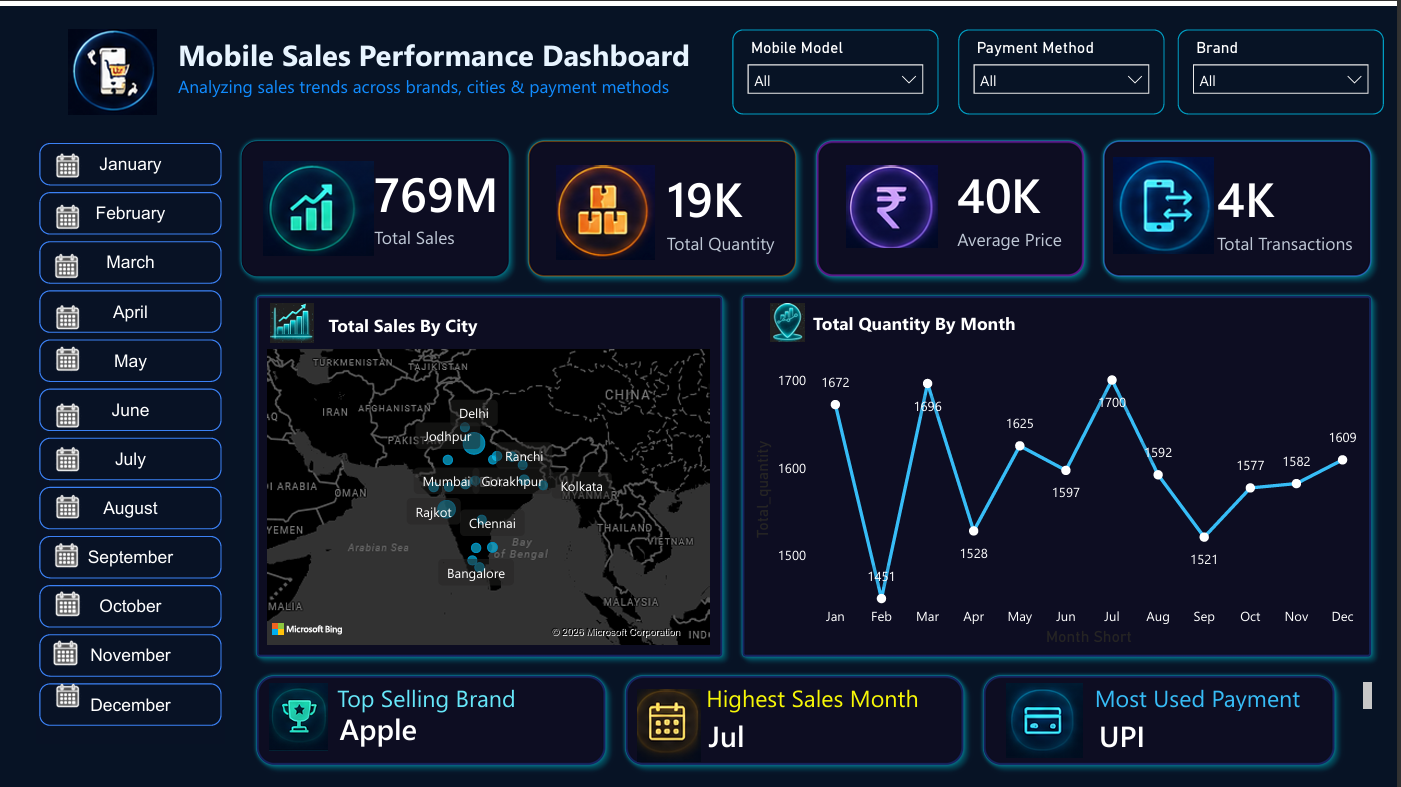

This screenshot's page, from the dashboard's own definition file:
{"tool":"powerbi","page":{"name":"DASHBOARD","canvas":[1280,720],"ordinal":0},"visuals":[{"type":"shape","box":[564,604,328,100],"z":0},{"type":"image","box":[745.8,147.7,131.7,87.2],"z":1000},{"type":"slicer","fields":{"Values":["Mobile_sales.Mobile Model"]},"box":[671.1,21.4,188.7,78.3],"z":2000},{"type":"slicer","fields":{"Values":["Mobile_sales.Payment Method"]},"box":[877.6,21.4,188.7,78.3],"z":3000},{"type":"slicer","fields":{"Values":["Mobile_sales.Brand"]},"box":[1078.7,21.4,188.7,78.3],"z":4000},{"type":"shape","box":[211.8,113.9,263.4,142.4],"z":5000},{"type":"image","box":[226.1,142.4,131.7,87.2],"z":6000},{"type":"cardVisual","fields":{"Data":["Mobile_sales.Total_sales"]},"box":[307.9,117.5,195.8,128.2],"z":7000},{"type":"shape","box":[475.3,113.9,263.4,142.4],"z":8000},{"type":"shape","box":[738.7,113.9,263.4,142.4],"z":9000},{"type":"shape","box":[1002.2,113.9,263.4,142.4],"z":10000},{"type":"cardVisual","fields":{"Data":["Mobile_sales.Total_quantity"]},"box":[576,122,196,128],"z":11000},{"type":"cardVisual","fields":{"Data":["Mobile_sales.Average_price"]},"box":[842,118,194,128],"z":12000},{"type":"image","box":[468.2,146,174.4,87.2],"z":13000},{"type":"image","box":[1002,138,128,88],"z":14000},{"type":"cardVisual","fields":{"Data":["Mobile_sales.Total_transactions"]},"box":[1080,122,200,128],"z":15000},{"type":"image","box":[766,146,104,76],"z":16000},{"type":"shape","box":[226.1,256.3,445,348.9],"z":17000},{"type":"shape","box":[671.1,256.3,594.5,348.9],"z":18000},{"type":"lineChart","fields":{"Y":["Mobile_sales.Total_quantity"],"Category":["Custom_calender.Month Short"]},"box":[686,324,566,266],"z":19000},{"type":"image","box":[40,131.2,61.2,30],"z":20000},{"type":"image","box":[41.2,175,61.2,30],"z":21000},{"type":"image","box":[42.5,218.8,61.2,30],"z":22000},{"type":"image","box":[42.5,261.2,61.2,30],"z":23000},{"type":"image","box":[43.8,308.8,61.2,30],"z":24000},{"type":"image","box":[43.8,360,61.2,30],"z":25000},{"type":"image","box":[45,400,61.2,30],"z":26000},{"type":"image","box":[42.5,447.5,61.2,30],"z":27000},{"type":"image","box":[40,492.5,61.2,30],"z":28000},{"type":"image","box":[40,532.5,61.2,30],"z":29000},{"type":"image","box":[40,620,61.2,30],"z":30000},{"type":"ChicletSlicer1448559807354","fields":{"Category":["Custom_calender.Date.Variation.Date Hierarchy.Month"]},"box":[28.5,117.5,183.3,566.1],"z":31000},{"type":"shape","box":[226,604,338,100],"z":32000},{"type":"cardVisual","fields":{"Data":["Mobile_sales.Top Selling Brand"]},"box":[276,618,164,84],"z":33000},{"type":"cardVisual","fields":{"Data":["Mobile_sales.Highest Sales Month"]},"box":[614,624,158,84],"z":34000},{"type":"textbox","box":[642,614,228,42],"z":35000},{"type":"textbox","box":[304,614,204,46],"z":36000},{"type":"shape","box":[892,604,340,100],"z":37000},{"type":"cardVisual","fields":{"Data":["Mobile_sales.Most Used Payment"]},"box":[972,628,128,76],"z":38000},{"type":"textbox","box":[998,614,264,36],"z":39000},{"type":"image","box":[916,620,82,68],"z":40000},{"type":"image","box":[572,626,82,66],"z":41000},{"type":"image","box":[240,620,68,62],"z":42000},{"type":"image","box":[17.1,127.1,90,38.6],"z":43000},{"type":"image","box":[17.1,174.3,90,38.6],"z":44000},{"type":"image","box":[15.7,218.6,90,38.6],"z":45000},{"type":"image","box":[17.1,265.7,90,38.6],"z":46000},{"type":"image","box":[17.1,304.3,90,38.6],"z":47000},{"type":"image","box":[17.1,355.7,90,38.6],"z":48000},{"type":"image","box":[17.1,395.7,90,38.6],"z":49000},{"type":"image","box":[16.7,440,90,38.3],"z":50000},{"type":"image","box":[15.7,484.3,90,38.6],"z":51000},{"type":"image","box":[16.7,528.3,90,40],"z":52000},{"type":"image","box":[15,573.3,90,40],"z":53000},{"type":"image","box":[16.7,613.3,90,38.3],"z":54000},{"type":"textbox","box":[740,274,300,34],"z":55000},{"type":"textbox","box":[296,276,300,32],"z":56000},{"type":"image","box":[686.7,271.7,70,35],"z":57000},{"type":"image","box":[240.3,272.3,55.2,35.6],"z":58000},{"type":"textbox","box":[158.4,21.4,555.4,81.9],"z":59000},{"type":"image","box":[58.7,21.4,89,78.3],"z":60000},{"type":"map","fields":{"Category":["Mobile_sales.City"],"Size":["Mobile_sales.Total_sales"]},"box":[240,308.8,415,281.2],"z":61000}]}

Visuals, with their boxes in screenshot pixels (x1, y1, x2, y2), scaled from the page's 1280x720 canvas onto the 1401x787 screenshot:
shape: {"left": 617, "top": 660, "right": 976, "bottom": 770}
image: {"left": 816, "top": 161, "right": 960, "bottom": 257}
slicer - Mobile_sales.Mobile Model: {"left": 735, "top": 23, "right": 941, "bottom": 109}
slicer - Mobile_sales.Payment Method: {"left": 961, "top": 23, "right": 1167, "bottom": 109}
slicer - Mobile_sales.Brand: {"left": 1181, "top": 23, "right": 1387, "bottom": 109}
shape: {"left": 232, "top": 124, "right": 520, "bottom": 280}
image: {"left": 247, "top": 156, "right": 392, "bottom": 251}
cardVisual - Mobile_sales.Total_sales: {"left": 337, "top": 128, "right": 551, "bottom": 269}
shape: {"left": 520, "top": 124, "right": 809, "bottom": 280}
shape: {"left": 809, "top": 124, "right": 1097, "bottom": 280}
shape: {"left": 1097, "top": 124, "right": 1385, "bottom": 280}
cardVisual - Mobile_sales.Total_quantity: {"left": 630, "top": 133, "right": 845, "bottom": 273}
cardVisual - Mobile_sales.Average_price: {"left": 922, "top": 129, "right": 1134, "bottom": 269}
image: {"left": 512, "top": 160, "right": 703, "bottom": 255}
image: {"left": 1097, "top": 151, "right": 1237, "bottom": 247}
cardVisual - Mobile_sales.Total_transactions: {"left": 1182, "top": 133, "right": 1400, "bottom": 273}
image: {"left": 838, "top": 160, "right": 952, "bottom": 243}
shape: {"left": 247, "top": 280, "right": 735, "bottom": 662}
shape: {"left": 735, "top": 280, "right": 1385, "bottom": 662}
lineChart - Mobile_sales.Total_quantity x Custom_calender.Month Short: {"left": 751, "top": 354, "right": 1370, "bottom": 645}
image: {"left": 44, "top": 143, "right": 111, "bottom": 176}
image: {"left": 45, "top": 191, "right": 112, "bottom": 224}
image: {"left": 47, "top": 239, "right": 114, "bottom": 272}
image: {"left": 47, "top": 286, "right": 114, "bottom": 318}
image: {"left": 48, "top": 338, "right": 115, "bottom": 370}
image: {"left": 48, "top": 393, "right": 115, "bottom": 426}
image: {"left": 49, "top": 437, "right": 116, "bottom": 470}
image: {"left": 47, "top": 489, "right": 114, "bottom": 522}
image: {"left": 44, "top": 538, "right": 111, "bottom": 571}
image: {"left": 44, "top": 582, "right": 111, "bottom": 615}
image: {"left": 44, "top": 678, "right": 111, "bottom": 710}
ChicletSlicer1448559807354 - Custom_calender.Date.Variation.Date Hierarchy.Month: {"left": 31, "top": 128, "right": 232, "bottom": 747}
shape: {"left": 247, "top": 660, "right": 617, "bottom": 770}
cardVisual - Mobile_sales.Top Selling Brand: {"left": 302, "top": 676, "right": 482, "bottom": 767}
cardVisual - Mobile_sales.Highest Sales Month: {"left": 672, "top": 682, "right": 845, "bottom": 774}
textbox: {"left": 703, "top": 671, "right": 952, "bottom": 717}
textbox: {"left": 333, "top": 671, "right": 556, "bottom": 721}
shape: {"left": 976, "top": 660, "right": 1348, "bottom": 770}
cardVisual - Mobile_sales.Most Used Payment: {"left": 1064, "top": 686, "right": 1204, "bottom": 770}
textbox: {"left": 1092, "top": 671, "right": 1381, "bottom": 710}
image: {"left": 1003, "top": 678, "right": 1092, "bottom": 752}
image: {"left": 626, "top": 684, "right": 716, "bottom": 756}
image: {"left": 263, "top": 678, "right": 337, "bottom": 745}
image: {"left": 19, "top": 139, "right": 117, "bottom": 181}
image: {"left": 19, "top": 191, "right": 117, "bottom": 233}
image: {"left": 17, "top": 239, "right": 116, "bottom": 281}
image: {"left": 19, "top": 290, "right": 117, "bottom": 333}
image: {"left": 19, "top": 333, "right": 117, "bottom": 375}
image: {"left": 19, "top": 389, "right": 117, "bottom": 431}
image: {"left": 19, "top": 433, "right": 117, "bottom": 475}
image: {"left": 18, "top": 481, "right": 117, "bottom": 523}
image: {"left": 17, "top": 529, "right": 116, "bottom": 572}
image: {"left": 18, "top": 577, "right": 117, "bottom": 621}
image: {"left": 16, "top": 627, "right": 115, "bottom": 670}
image: {"left": 18, "top": 670, "right": 117, "bottom": 712}
textbox: {"left": 810, "top": 299, "right": 1138, "bottom": 337}
textbox: {"left": 324, "top": 302, "right": 652, "bottom": 337}
image: {"left": 752, "top": 297, "right": 828, "bottom": 335}
image: {"left": 263, "top": 298, "right": 323, "bottom": 337}
textbox: {"left": 173, "top": 23, "right": 781, "bottom": 113}
image: {"left": 64, "top": 23, "right": 162, "bottom": 109}
map - Mobile_sales.City x Mobile_sales.Total_sales: {"left": 263, "top": 338, "right": 717, "bottom": 645}
